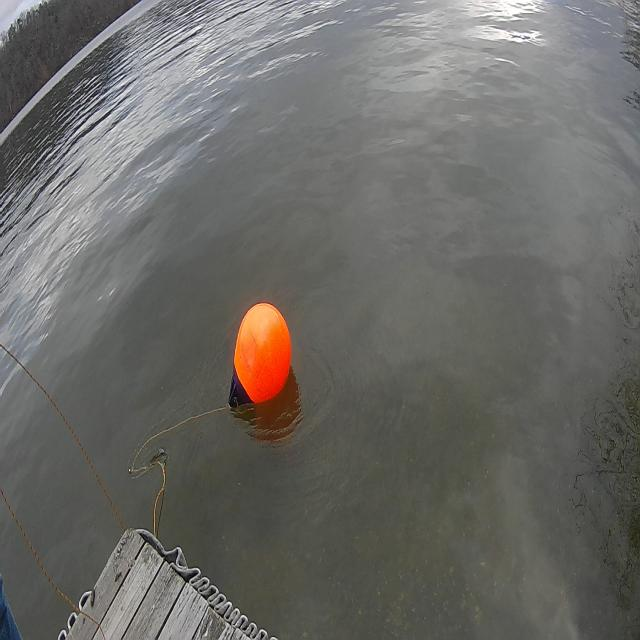Buoy: (234, 299, 292, 412)
